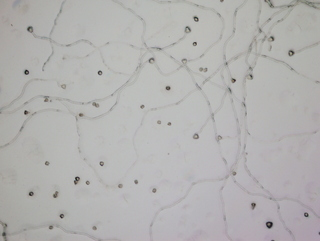germinated: (178, 24, 192, 40), (25, 25, 41, 38), (180, 56, 191, 74), (191, 125, 203, 140), (226, 71, 237, 85), (288, 46, 303, 56), (149, 56, 160, 69), (53, 79, 66, 90), (246, 66, 255, 81)
nongerminated: (264, 218, 275, 230), (191, 12, 201, 24), (21, 108, 31, 117), (165, 118, 174, 128), (215, 133, 225, 142), (83, 178, 93, 187), (301, 209, 309, 220), (191, 38, 200, 47), (95, 68, 104, 77), (250, 200, 259, 209), (150, 185, 159, 194), (57, 212, 66, 221), (131, 177, 141, 185), (42, 158, 52, 166), (267, 34, 276, 42), (138, 102, 147, 110), (97, 159, 106, 167), (27, 188, 35, 197), (90, 223, 99, 231), (46, 223, 54, 232), (164, 83, 172, 91), (23, 67, 31, 75), (155, 118, 163, 126), (116, 180, 124, 188), (197, 65, 204, 74), (203, 64, 210, 72), (231, 169, 239, 176), (76, 111, 83, 117), (73, 174, 80, 180), (54, 189, 61, 195), (95, 102, 100, 110), (90, 100, 96, 106), (72, 179, 78, 185), (51, 193, 57, 198)
